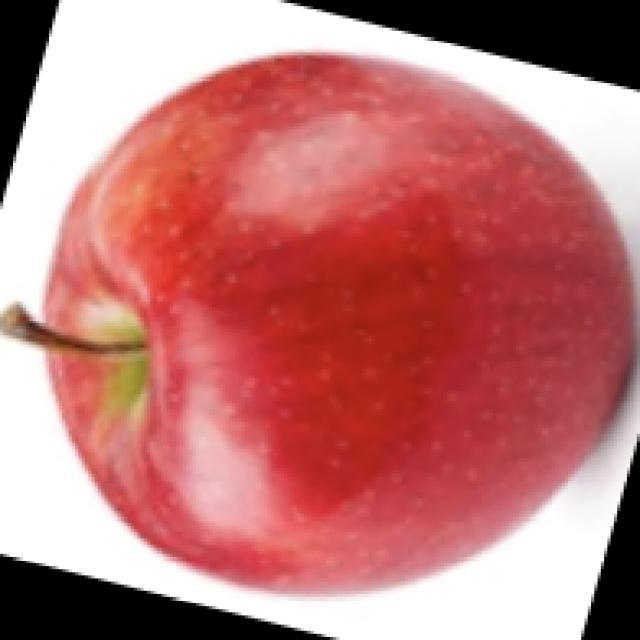Apple: (1, 48, 635, 597)
